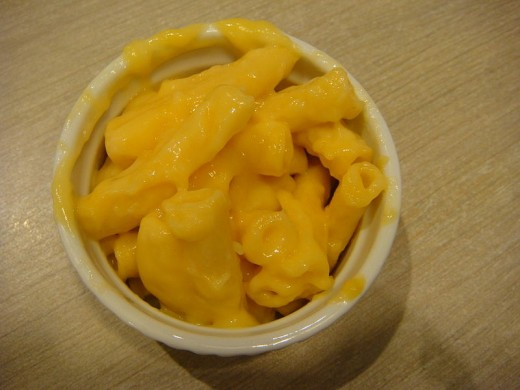macncheese: (68, 47, 379, 331)
